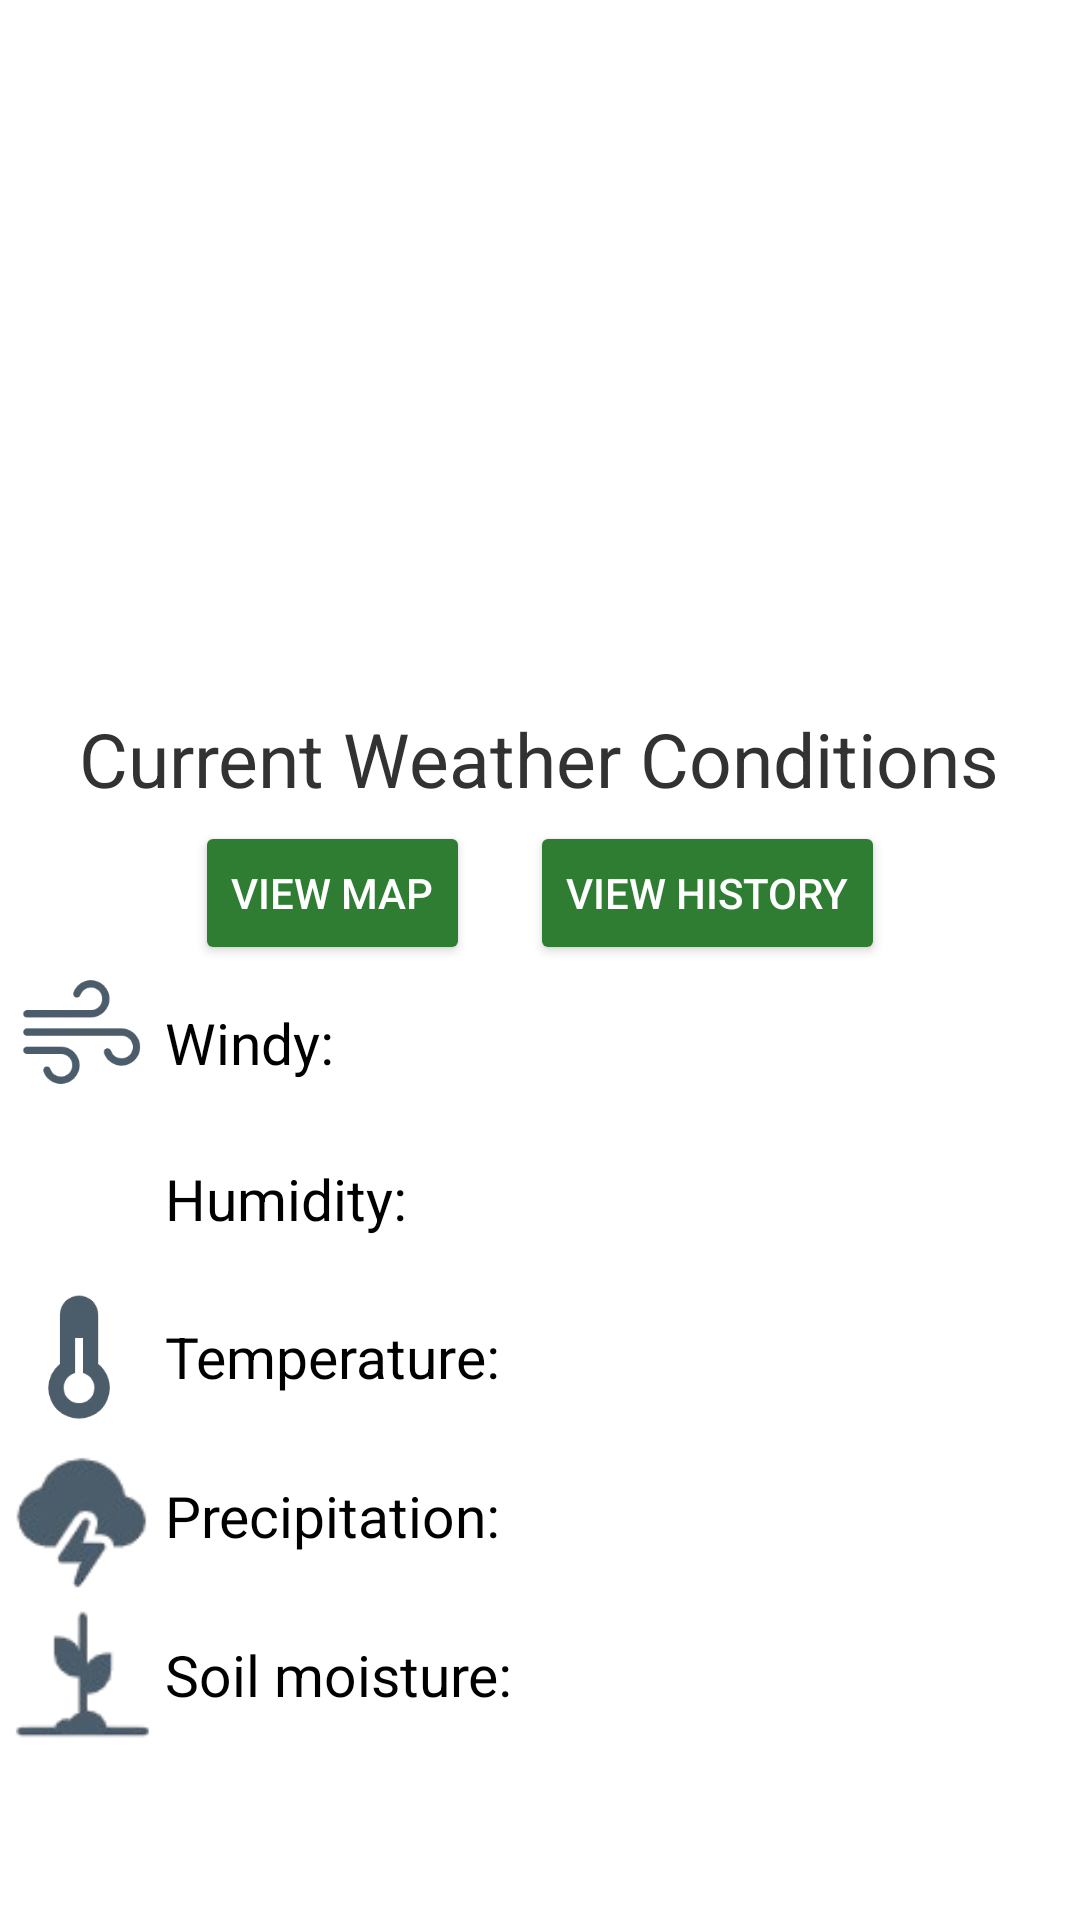

Where to tap for icons on this 1080w x 1920h app screen, as (x,y):
thermometer: (79,1357)
